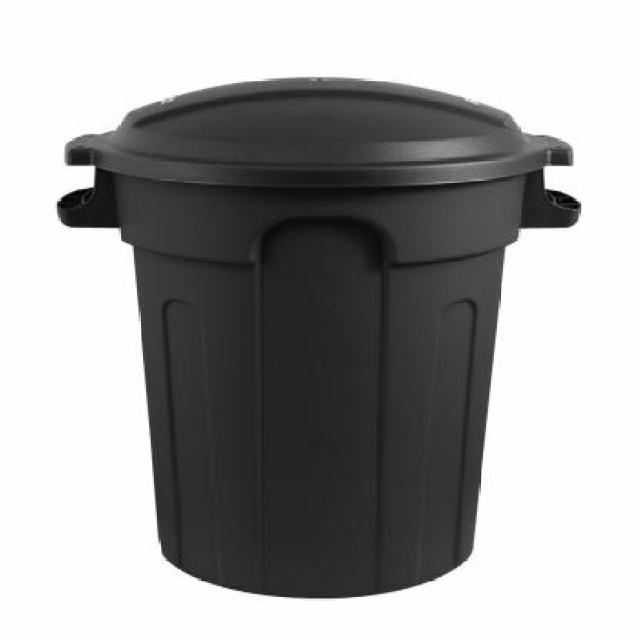garbage container: (48, 71, 603, 611)
